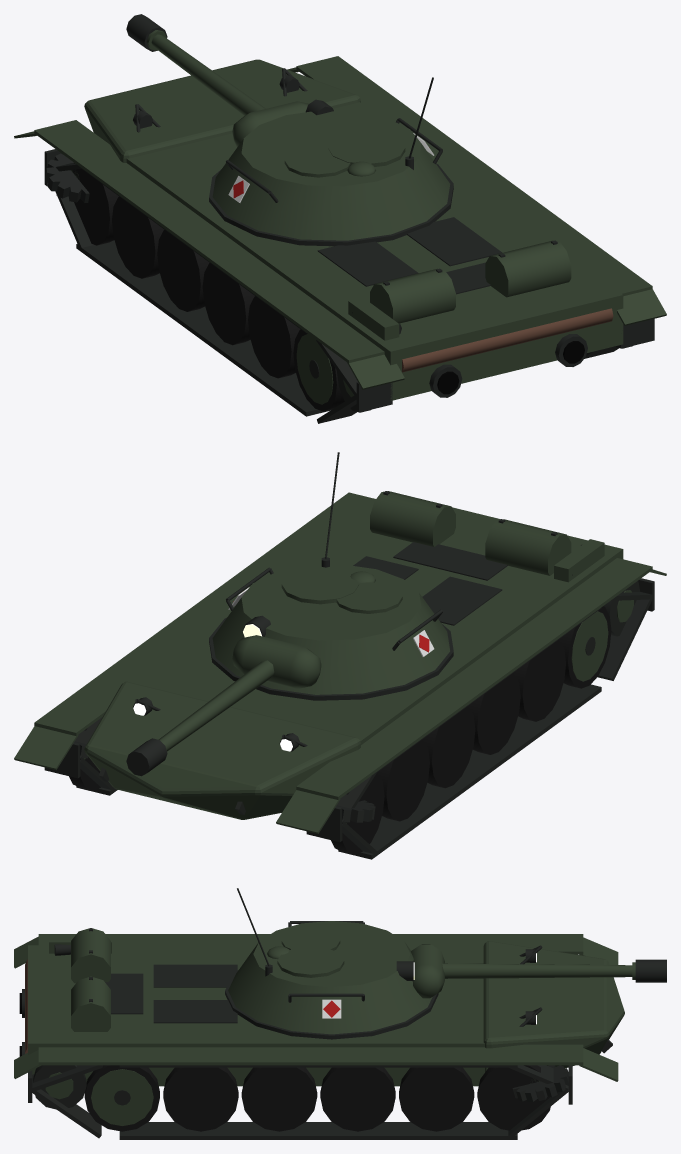
The picture shows the model from 3 angles, top to bottom: view 1: azimuth 30°, elevation 25°; view 2: azimuth 150°, elevation 25°; view 3: azimuth 270°, elevation 25°; orthographic projection. The views are drawn at different scales.
Visible parts, largest first — view 1: Mesh_HullMain, Mesh_TurretBody, Mesh_MudguardR, Mesh_BowHull, Mesh_MudguardL, Mesh_RightTrackBottom, Mesh_FuelDrumL, Mesh_FuelDrumR, Mesh_RecoveryLog, Mesh_RightWheel_2, Mesh_RightWheel_4, Mesh_RightWheel_1 (+21 smaller); view 2: Mesh_HullMain, Mesh_BowHull, Mesh_TurretBody, Mesh_MudguardR, Mesh_MudguardL, Mesh_RightTrackBottom, Mesh_FuelDrumL, Mesh_FuelDrumR, Mesh_Mantlet, Mesh_RightWheel_3, Mesh_RightWheel_1, Mesh_RightWheel_2 (+19 smaller); view 3: Mesh_HullMain, Mesh_TurretBody, Mesh_BowHull, Mesh_MudguardL, Mesh_LeftTrackBottom, Mesh_MudguardR, Mesh_LeftWheel_2, Mesh_LeftWheel_3, Mesh_LeftWheel_1, Mesh_LeftWheel_4, Mesh_LeftWheel_5, Mesh_GunBarrel (+23 smaller).
Part boxes in pixels (x1=…): Mesh_HullMain: x1=126, y1=102, x2=623, y2=400; Mesh_TurretBody: x1=212, y1=110, x2=450, y2=240; Mesh_MudguardR: x1=34, y1=120, x2=384, y2=363; Mesh_BowHull: x1=84, y1=59, x2=360, y2=162; Mesh_MudguardL: x1=296, y1=56, x2=652, y2=296; Mesh_RightTrackBottom: x1=76, y1=240, x2=330, y2=416; Mesh_FuelDrumL: x1=485, y1=240, x2=571, y2=297; Mesh_FuelDrumR: x1=370, y1=268, x2=455, y2=323; Mesh_RecoveryLog: x1=402, y1=308, x2=613, y2=372; Mesh_RightWheel_2: x1=202, y1=263, x2=254, y2=345; Mesh_RightWheel_4: x1=112, y1=196, x2=164, y2=278; Mesh_RightWheel_1: x1=248, y1=296, x2=300, y2=378; Mesh_HullMain: x1=131, y1=505, x2=623, y2=744; Mesh_BowHull: x1=84, y1=681, x2=360, y2=819; Mesh_TurretBody: x1=212, y1=564, x2=449, y2=694; Mesh_MudguardR: x1=296, y1=558, x2=652, y2=799; Mesh_MudguardL: x1=34, y1=492, x2=375, y2=735; Mesh_RightTrackBottom: x1=338, y1=683, x2=601, y2=859; Mesh_FuelDrumL: x1=370, y1=491, x2=455, y2=546; Mesh_FuelDrumR: x1=485, y1=519, x2=571, y2=575; Mesh_Mantlet: x1=232, y1=635, x2=321, y2=688; Mesh_RightWheel_3: x1=423, y1=706, x2=475, y2=788; Mesh_RightWheel_1: x1=513, y1=639, x2=565, y2=721; Mesh_RightWheel_2: x1=468, y1=673, x2=520, y2=754; Mesh_HullMain: x1=28, y1=945, x2=484, y2=1086; Mesh_TurretBody: x1=228, y1=921, x2=432, y2=1034; Mesh_BowHull: x1=483, y1=941, x2=624, y2=1072; Mesh_MudguardL: x1=38, y1=1044, x2=583, y2=1065; Mesh_LeftTrackBottom: x1=119, y1=1122, x2=517, y2=1139; Mesh_MudguardR: x1=38, y1=934, x2=583, y2=954; Mesh_LeftWheel_2: x1=241, y1=1067, x2=317, y2=1131; Mesh_LeftWheel_3: x1=320, y1=1067, x2=395, y2=1131; Mesh_LeftWheel_1: x1=163, y1=1067, x2=238, y2=1131; Mesh_LeftWheel_4: x1=399, y1=1067, x2=474, y2=1131; Mesh_LeftWheel_5: x1=477, y1=1065, x2=550, y2=1130; Mesh_GunBarrel: x1=442, y1=963, x2=632, y2=978.
Size of the model in its own units: 3.06 by 2.2 by 6.23.
